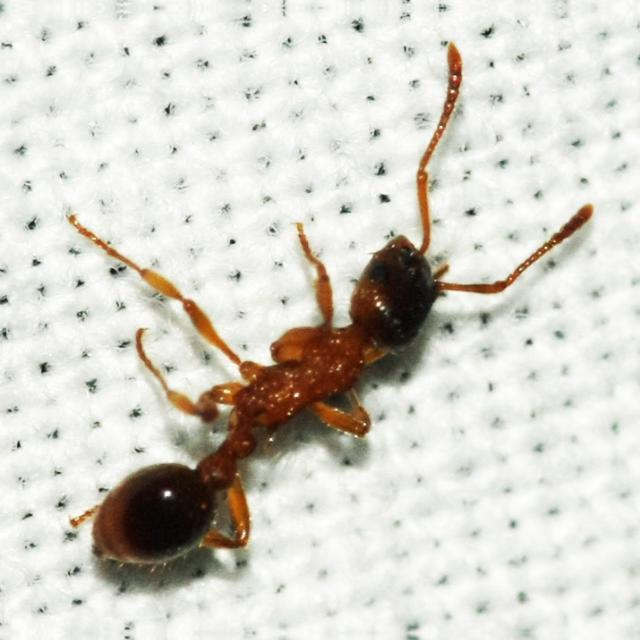Myrmica: (74, 60, 562, 602)
